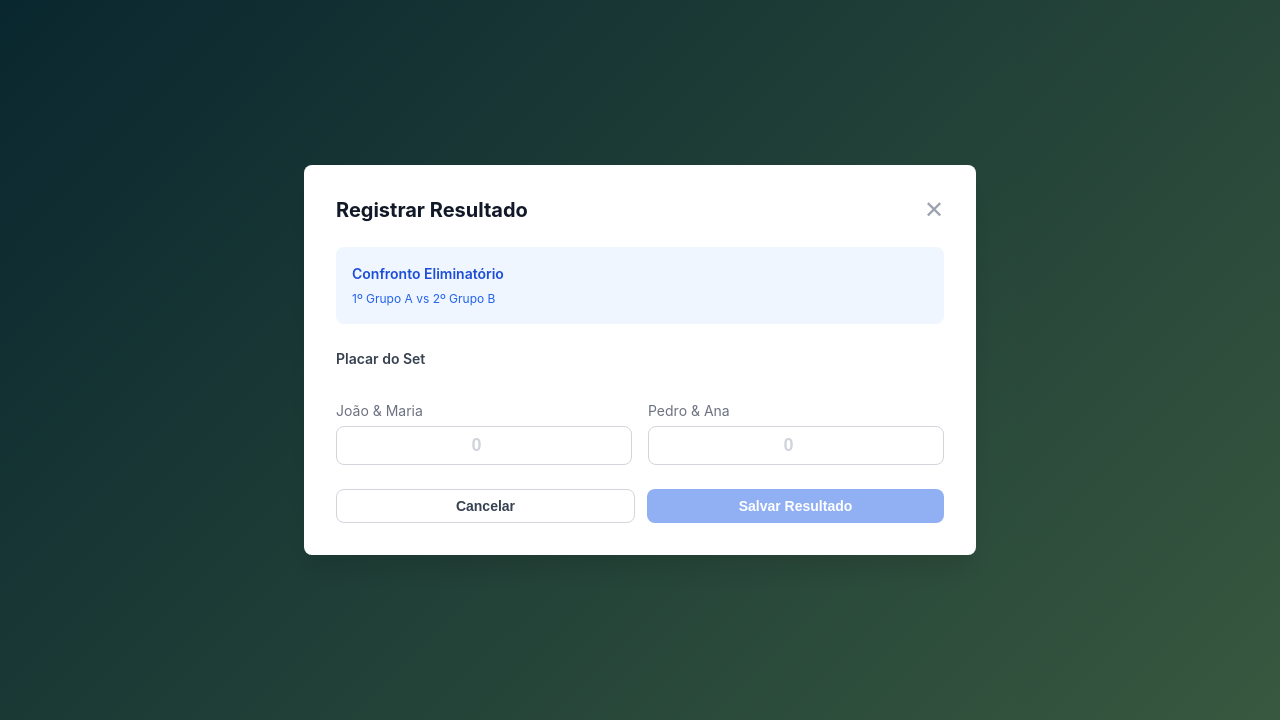
Test: ModalRegistrarResultadoEliminatorio › estado de loading › deve desabilitar inputs durante loading
The width and height of the screenshot is (1280, 720).
Type "6" into the number field with placeholder "0" below "João & Maria" at (484,446), box [336,426,632,466]
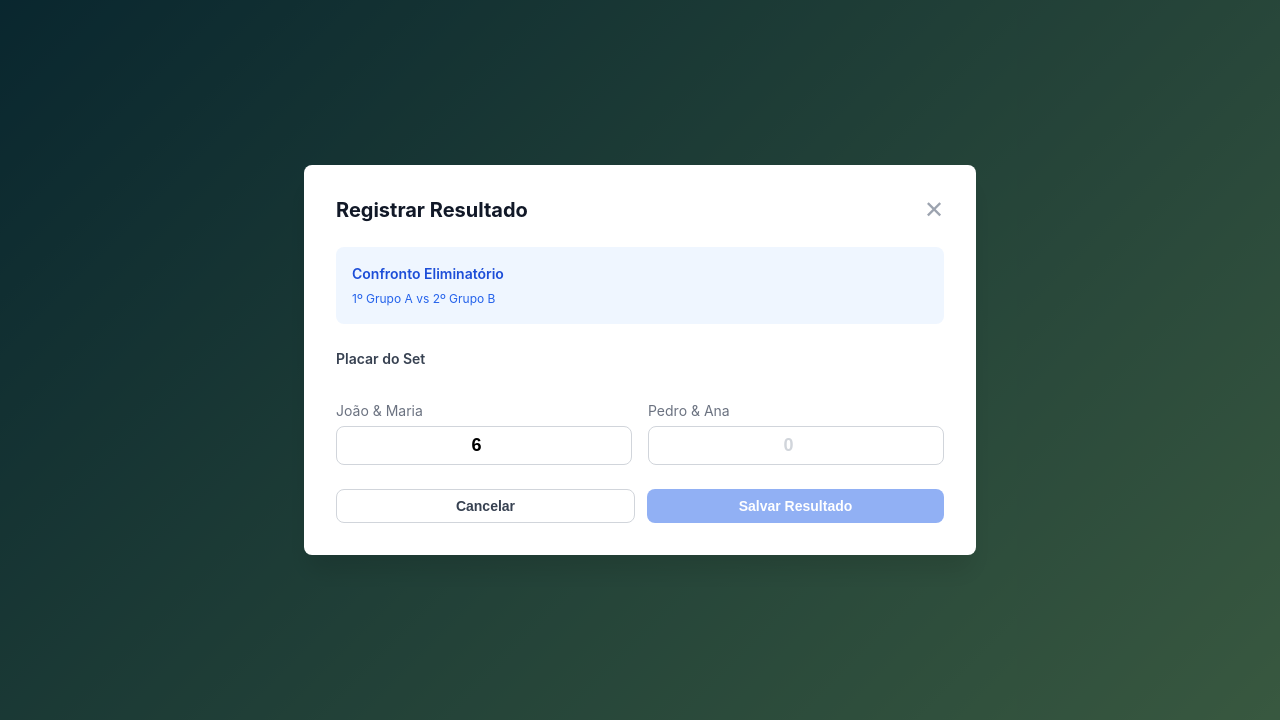
Type "4" into the number field with placeholder "0" at (796,446), box [648,426,944,466]
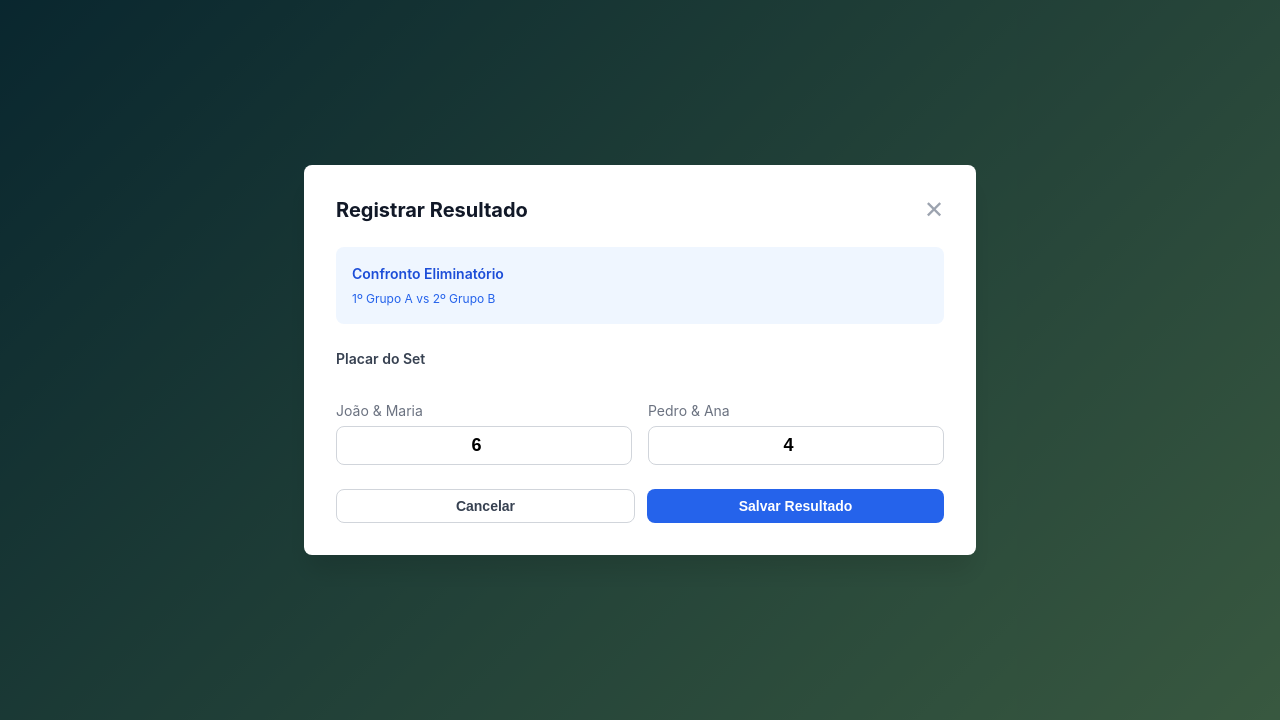
Click the button "Salvar Resultado" at (796,506), box [647,490,944,524]
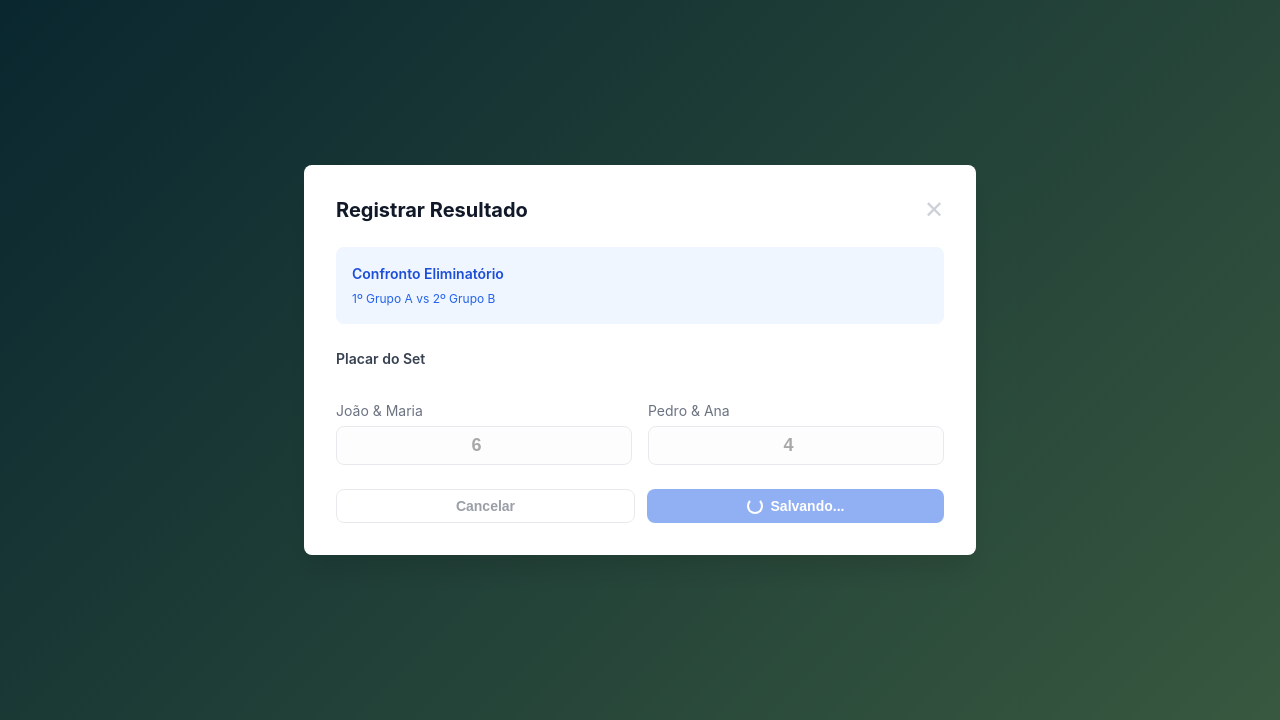
Expected: the number field below "João & Maria" is disabled, [336,426,632,466]
Expected: the number field below "Pedro & Ana" is disabled, [648,426,944,466]
